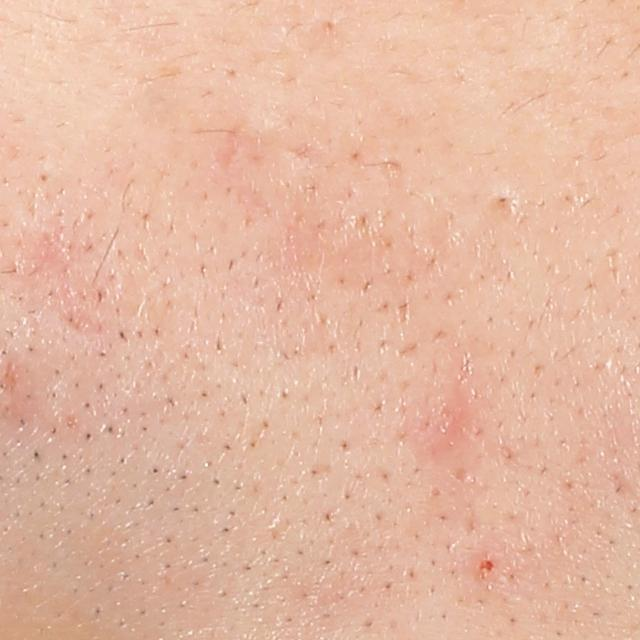atrophic_scar: (212, 123, 249, 174), (483, 188, 522, 220)
